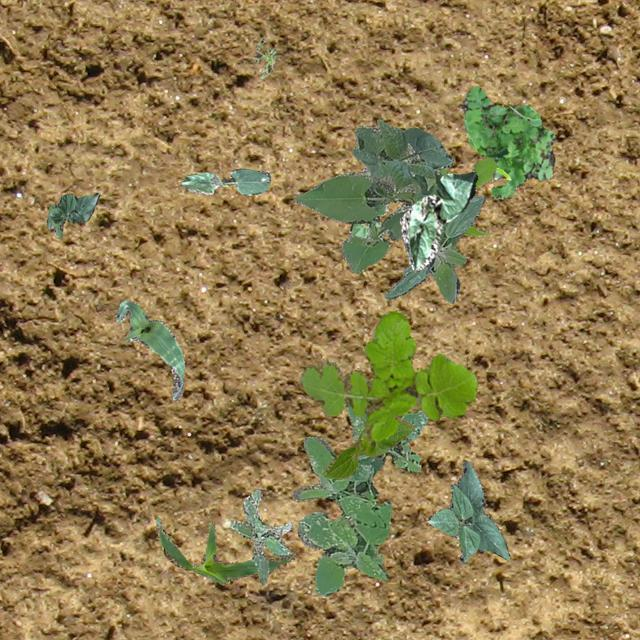crop: (292, 118, 478, 272), (154, 516, 296, 584), (426, 459, 508, 562), (398, 170, 476, 272), (114, 298, 184, 401), (324, 417, 414, 478), (438, 154, 496, 236), (348, 165, 388, 238), (180, 168, 270, 195), (46, 192, 98, 236)
weed: (291, 402, 428, 594), (298, 310, 477, 440), (384, 195, 484, 302), (461, 86, 554, 198), (230, 488, 292, 582), (252, 38, 280, 78), (492, 168, 502, 178)
